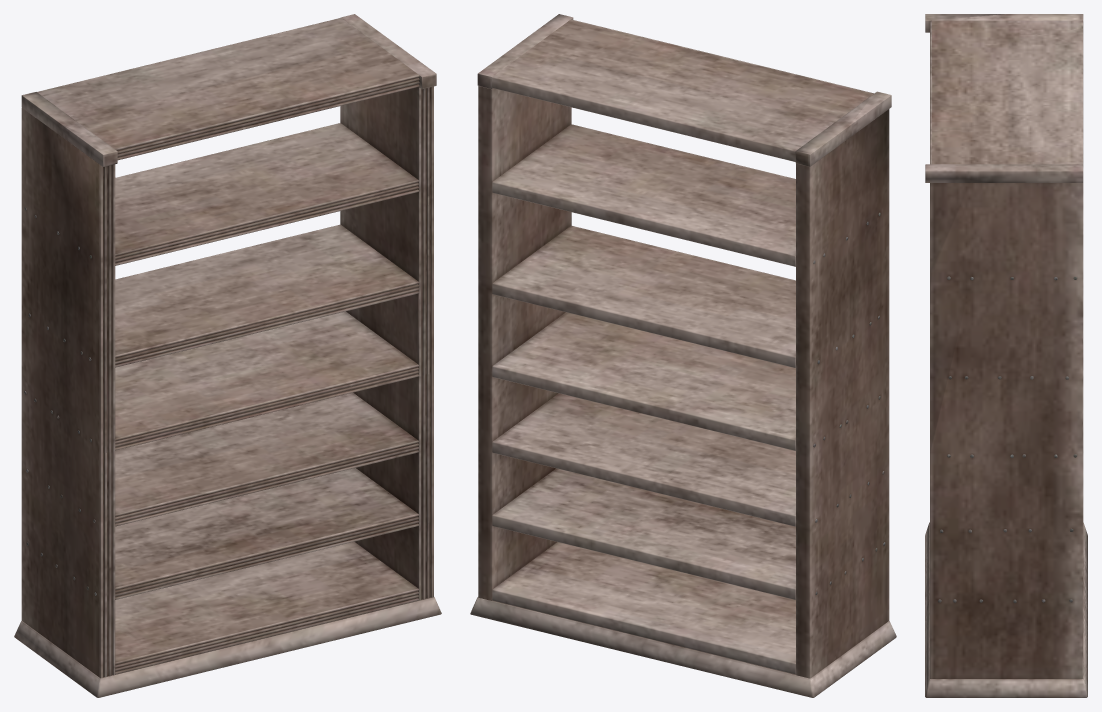
The model's file is wooden_bookshelf_worn.glb.
3 views of the same model, side by side, from view 1: azimuth 30°, elevation 25°; view 2: azimuth 150°, elevation 25°; view 3: azimuth 270°, elevation 25° (orthographic). The views are drawn at different scales.
Visible parts, largest first — view 1: wooden_bookshelf_worn; view 2: wooden_bookshelf_worn; view 3: wooden_bookshelf_worn.
Boxes of the visible parts, box(x1,y1,x2,y2) form: wooden_bookshelf_worn: box(14, 14, 441, 697); wooden_bookshelf_worn: box(470, 14, 896, 697); wooden_bookshelf_worn: box(925, 14, 1087, 697).
Bounding box in the file's own units: 1.37 × 2.06 × 0.5814.
1 material, 1 textured.
